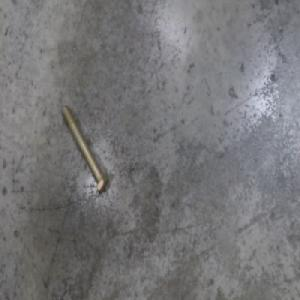Bolt: (59, 103, 110, 196)
